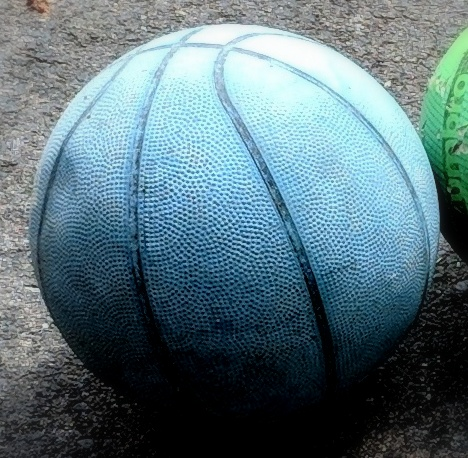ball: (28, 24, 442, 420)
